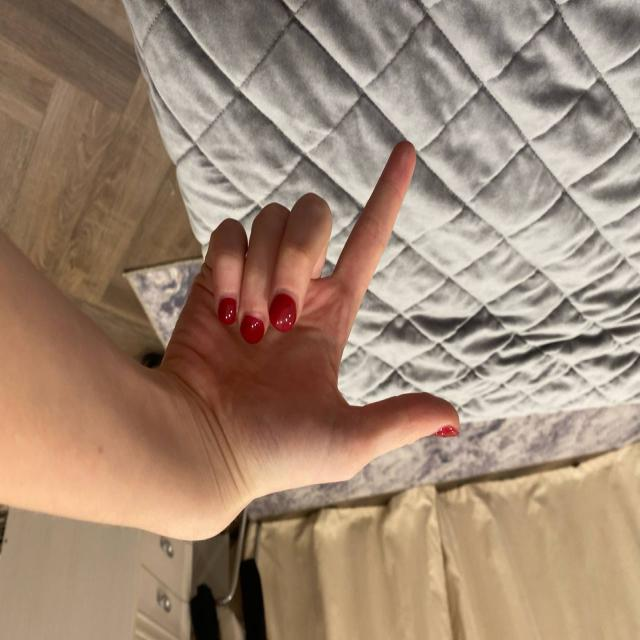g: (162, 132, 458, 473)
